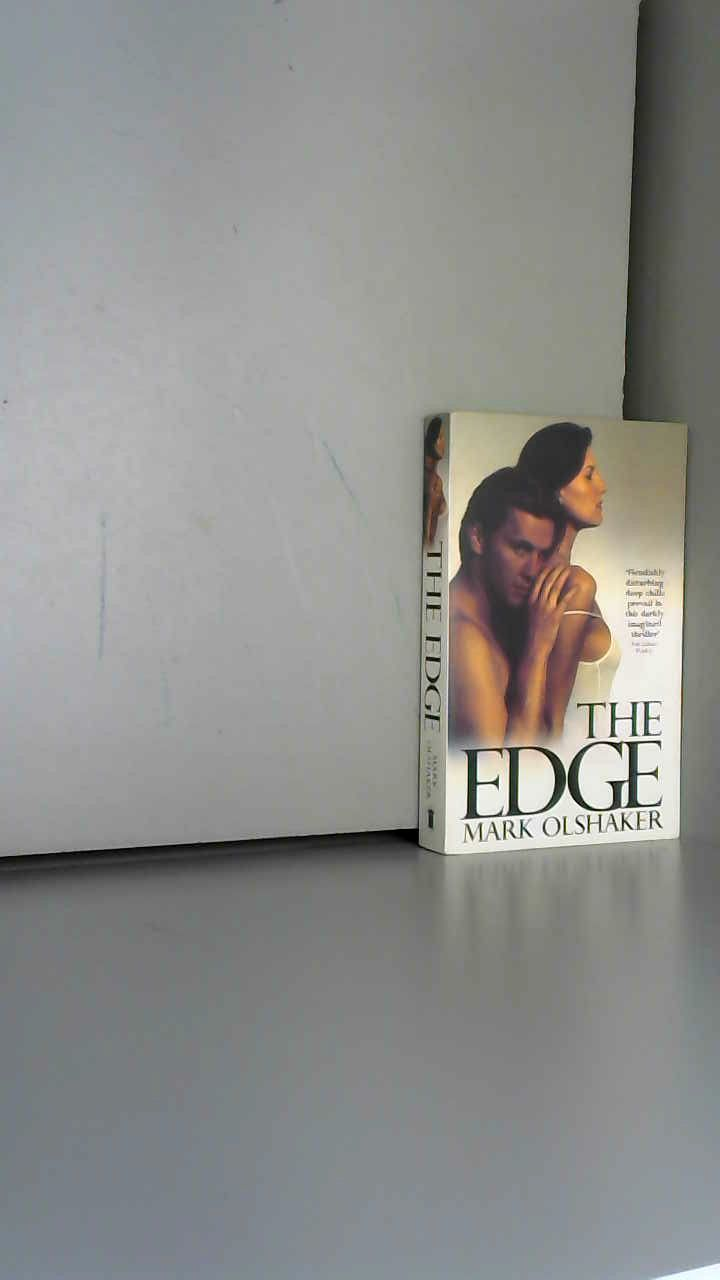book: (390, 380, 716, 896)
